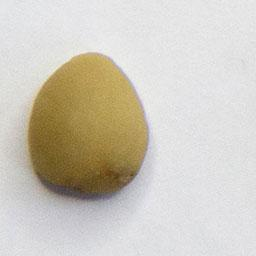defect: (24, 46, 155, 204)
